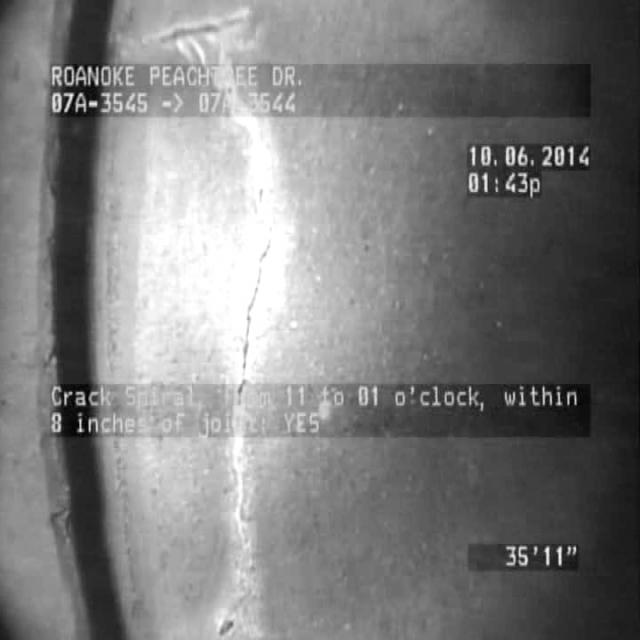Crack: (230, 180, 302, 388)
